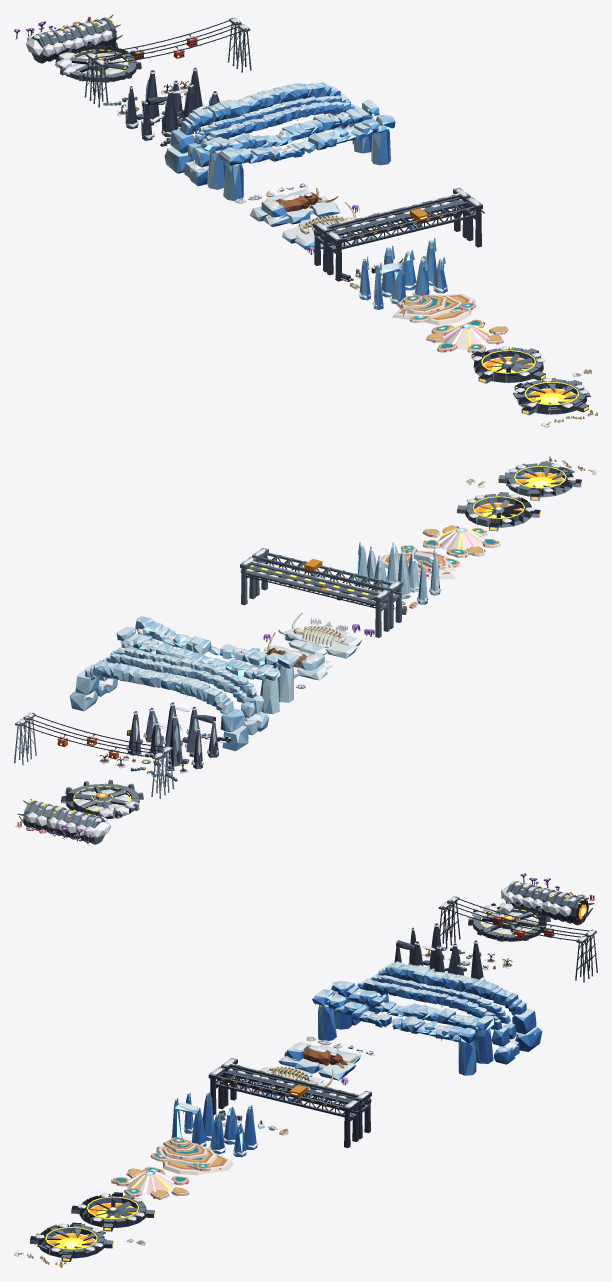
Rendered from set_glacis.glb.
3 views of the same model, one above another, from view 1: azimuth 30°, elevation 25°; view 2: azimuth 150°, elevation 25°; view 3: azimuth 330°, elevation 25° (orthographic). The views are drawn at different scales.
Parts seen in each view (by area): view 1: glacis_ice_bridge_1.001, glacis_ice_arch_1.001, glacis_ice_arch_0.001, glacis_ice_bridge_0.001, glacis_pipe_rack_1.001, glacis_pipe_rack_0.001, glacis_buried_engine_0.001, glacis_buried_engine_1.001, glacis_mammoth_0.001, glacis_travertine_0.001, glacis_turbine_1.001, glacis_turbine_0.001 (+9 smaller); view 2: glacis_ice_arch_0.001, glacis_ice_arch_1.001, glacis_pipe_rack_0.001, glacis_ice_bridge_1.001, glacis_ice_bridge_0.001, glacis_buried_engine_0.001, glacis_pipe_rack_1.001, glacis_buried_engine_1.001, glacis_mammoth_1.001, glacis_turbine_1.001, glacis_turbine_0.001, glacis_frost_teeth_0.001 (+9 smaller); view 3: glacis_ice_arch_1.001, glacis_ice_bridge_1.001, glacis_ice_arch_0.001, glacis_ice_bridge_0.001, glacis_pipe_rack_1.001, glacis_pipe_rack_0.001, glacis_buried_engine_0.001, glacis_buried_engine_1.001, glacis_travertine_0.001, glacis_mammoth_0.001, glacis_turbine_1.001, glacis_turbine_0.001 (+9 smaller).
Boxes of the visible parts, <box> form: glacis_ice_bridge_1.001: <box>218,114,395,201</box>; glacis_ice_arch_1.001: <box>184,95,359,186</box>; glacis_ice_arch_0.001: <box>164,82,350,173</box>; glacis_ice_bridge_0.001: <box>203,99,379,189</box>; glacis_pipe_rack_1.001: <box>325,197,484,281</box>; glacis_pipe_rack_0.001: <box>313,187,470,272</box>; glacis_buried_engine_0.001: <box>26,14,122,63</box>; glacis_buried_engine_1.001: <box>55,41,141,82</box>; glacis_mammoth_0.001: <box>250,188,340,226</box>; glacis_travertine_0.001: <box>391,294,476,325</box>; glacis_turbine_1.001: <box>514,378,588,415</box>; glacis_turbine_0.001: <box>471,346,545,383</box>; glacis_ice_arch_0.001: <box>69,660,248,751</box>; glacis_ice_arch_1.001: <box>95,647,269,735</box>; glacis_pipe_rack_0.001: <box>240,556,390,637</box>; glacis_ice_bridge_1.001: <box>135,616,299,702</box>; glacis_ice_bridge_0.001: <box>116,626,280,714</box>; glacis_buried_engine_0.001: <box>17,799,110,844</box>; glacis_pipe_rack_1.001: <box>252,548,403,629</box>; glacis_buried_engine_1.001: <box>61,779,143,819</box>; glacis_mammoth_1.001: <box>278,612,361,658</box>; glacis_turbine_1.001: <box>498,461,582,500</box>; glacis_turbine_0.001: <box>456,492,540,531</box>; glacis_frost_teeth_0.001: <box>126,711,203,769</box>; glacis_ice_arch_1.001: <box>350,975,519,1064</box>; glacis_ice_bridge_1.001: <box>312,989,476,1075</box>; glacis_ice_arch_0.001: <box>368,961,542,1051</box>; glacis_ice_bridge_0.001: <box>331,980,495,1063</box>; glacis_pipe_rack_1.001: <box>208,1067,361,1147</box>; glacis_pipe_rack_0.001: <box>221,1058,371,1139</box>; glacis_buried_engine_0.001: <box>501,881,594,925</box>; glacis_buried_engine_1.001: <box>468,902,550,941</box>; glacis_travertine_0.001: <box>150,1137,233,1175</box>; glacis_mammoth_0.001: <box>278,1042,361,1080</box>; glacis_turbine_1.001: <box>29,1222,113,1261</box>; glacis_turbine_0.001: <box>71,1192,155,1231</box>.
Bounding box in the file's own units: 106 × 34.2 × 555.
